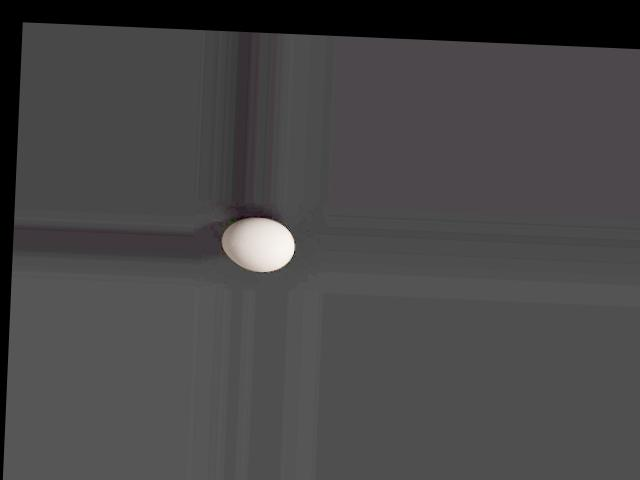egg: (221, 216, 297, 272)
